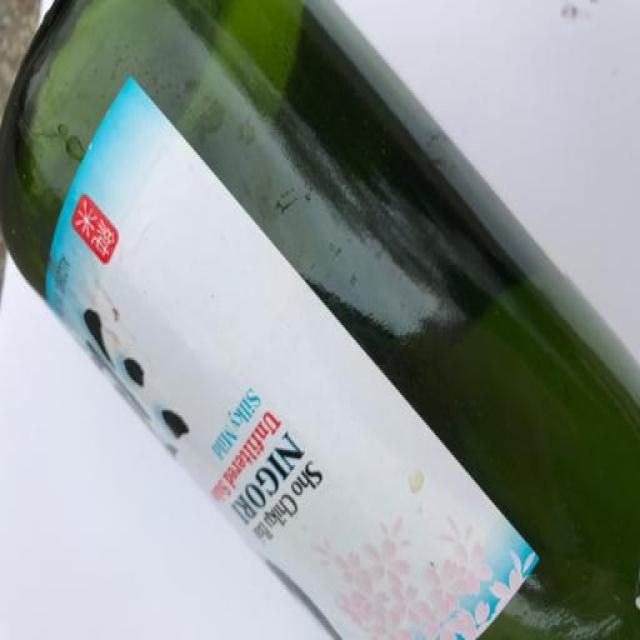glass: (4, 1, 640, 640)
